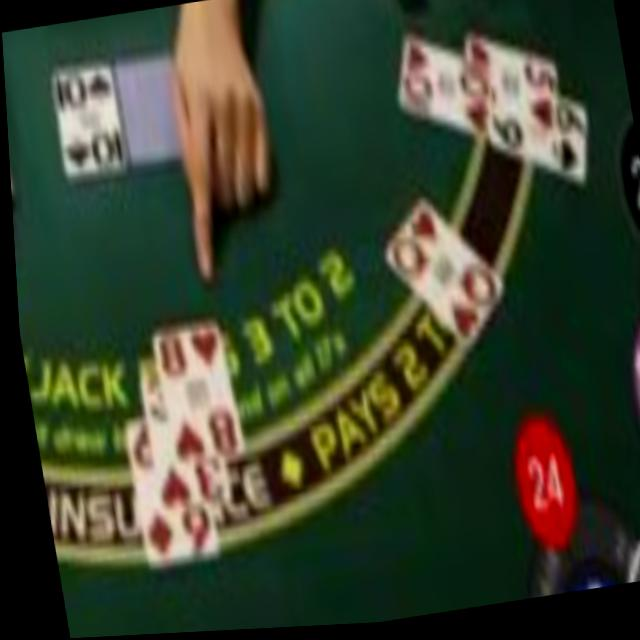Card-10: (49, 62, 125, 176)
Card-3: (134, 366, 222, 509)
Card-5: (464, 33, 553, 138)
Card-6: (118, 418, 211, 567), (488, 99, 584, 192)
Card-8: (150, 328, 237, 466)
Card-Q: (381, 197, 498, 357), (398, 33, 497, 144)
